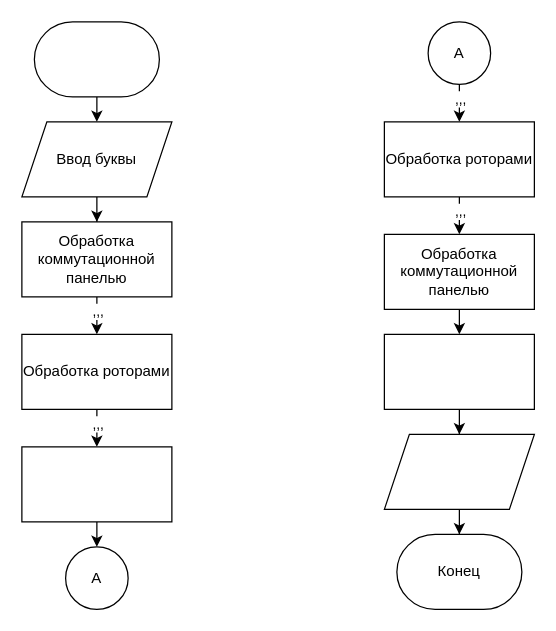
The diagram is 556 pixels wide and 631 high, and some of its shapes have lost their labels. The centre of each missing label's shape, as x and y in pixels:
"Вывод буквы" goes at (458,471).
"Начало" goes at (96,59).
"Обработка отражателем" goes at (96,484).
"Поворот ротора" goes at (458,371).
